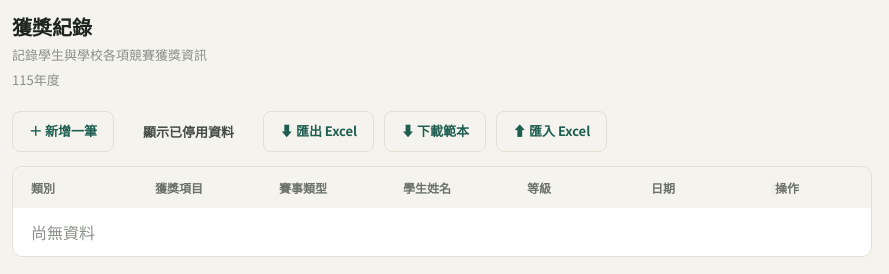
Scenario: record page invocation guards › Generic rechecks live authorization, Shell year, year meta, and records readiness for retained controls
The width and height of the screenshot is (889, 274).
Step 1. Click the button "＋ 新增一筆" → (63, 132), box [12,111,114,152]
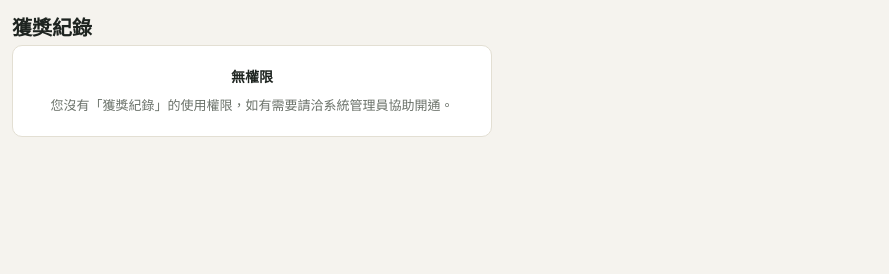
Expected: the text "無權限" is shown, [231,66,273,86]
